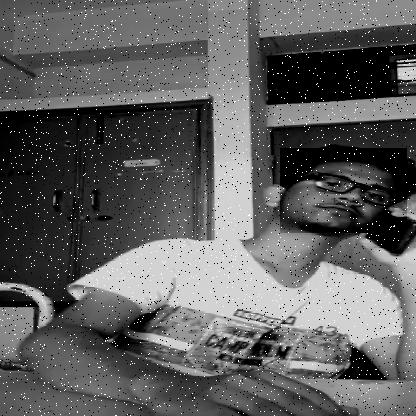Distracted: (280, 148, 407, 233)
